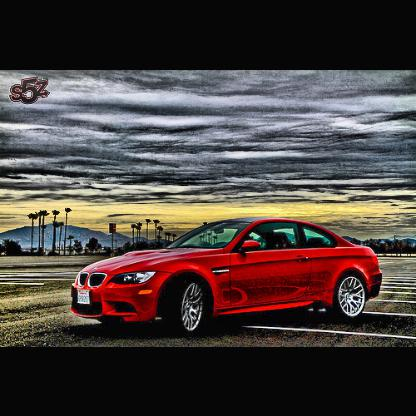BMW M3 Coupe 2012: (72, 219, 384, 332)
